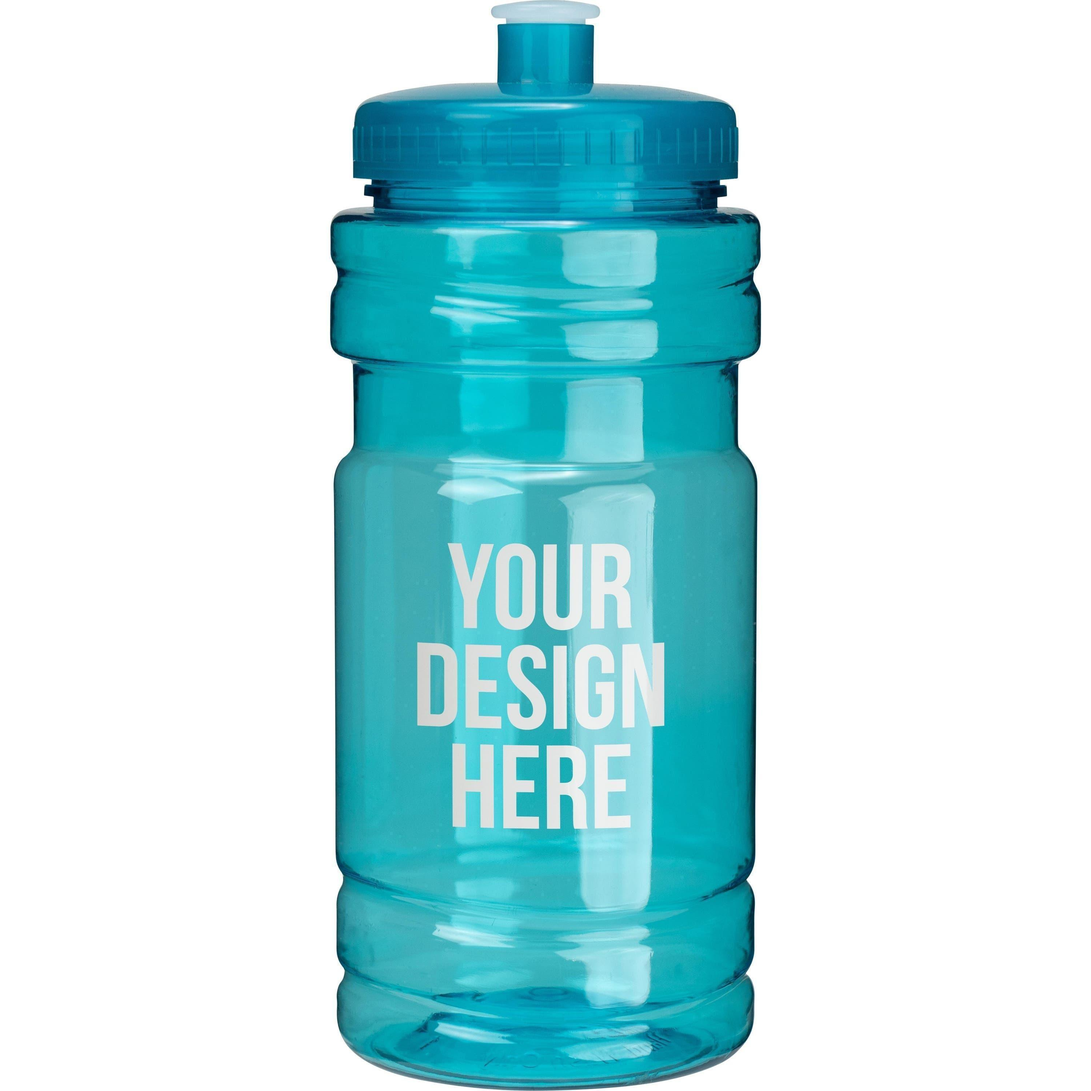gym bottle: (309, 0, 776, 1091)
